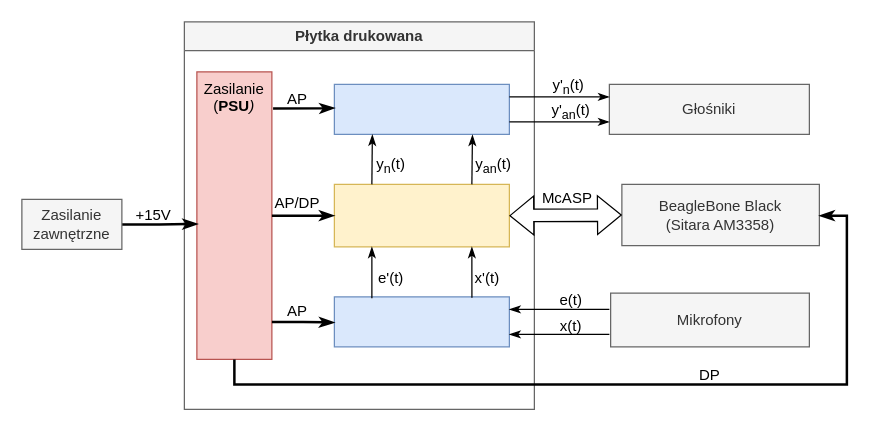
Image size: 880x431. Some labels were removed from this diagram. The box of each missing label's shape, as (x1, y1, x2, y2) in pixels:
Przetworniki ( ADC/DAC ): (333, 183, 509, 247)
Wejściowe tory analogowe ( Input ): (333, 296, 509, 347)
Wyjściowe tory analogowe ( Output ): (333, 83, 509, 134)
